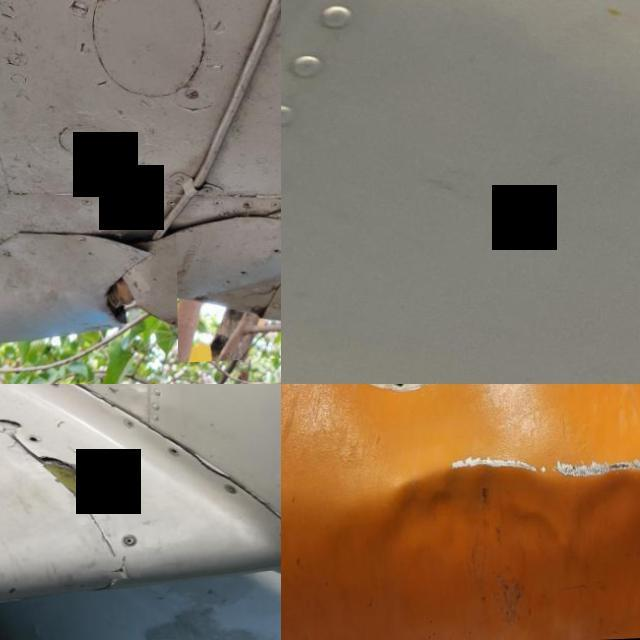Crack: (32, 452, 98, 513), (226, 474, 281, 536), (178, 447, 232, 486), (98, 558, 140, 580), (0, 414, 26, 434)
Dent: (385, 469, 558, 569), (175, 225, 281, 364), (567, 475, 640, 551)
Missing_Fastener: (25, 433, 40, 446), (166, 448, 178, 461), (42, 384, 60, 390), (276, 534, 281, 547)
